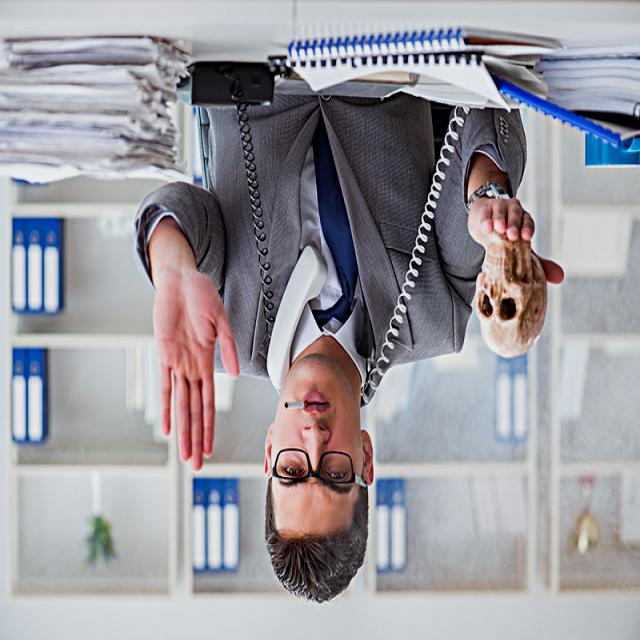cigarette: (280, 394, 304, 418)
